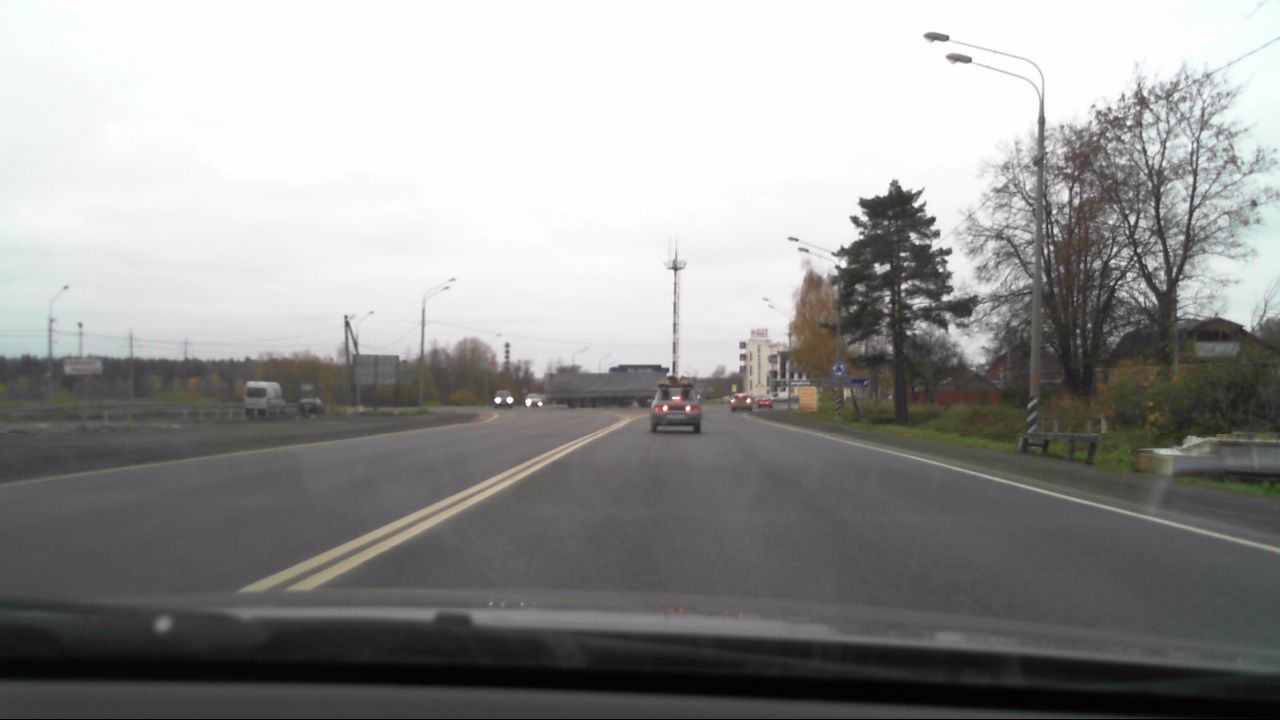Round-About: (826, 360, 846, 377)
